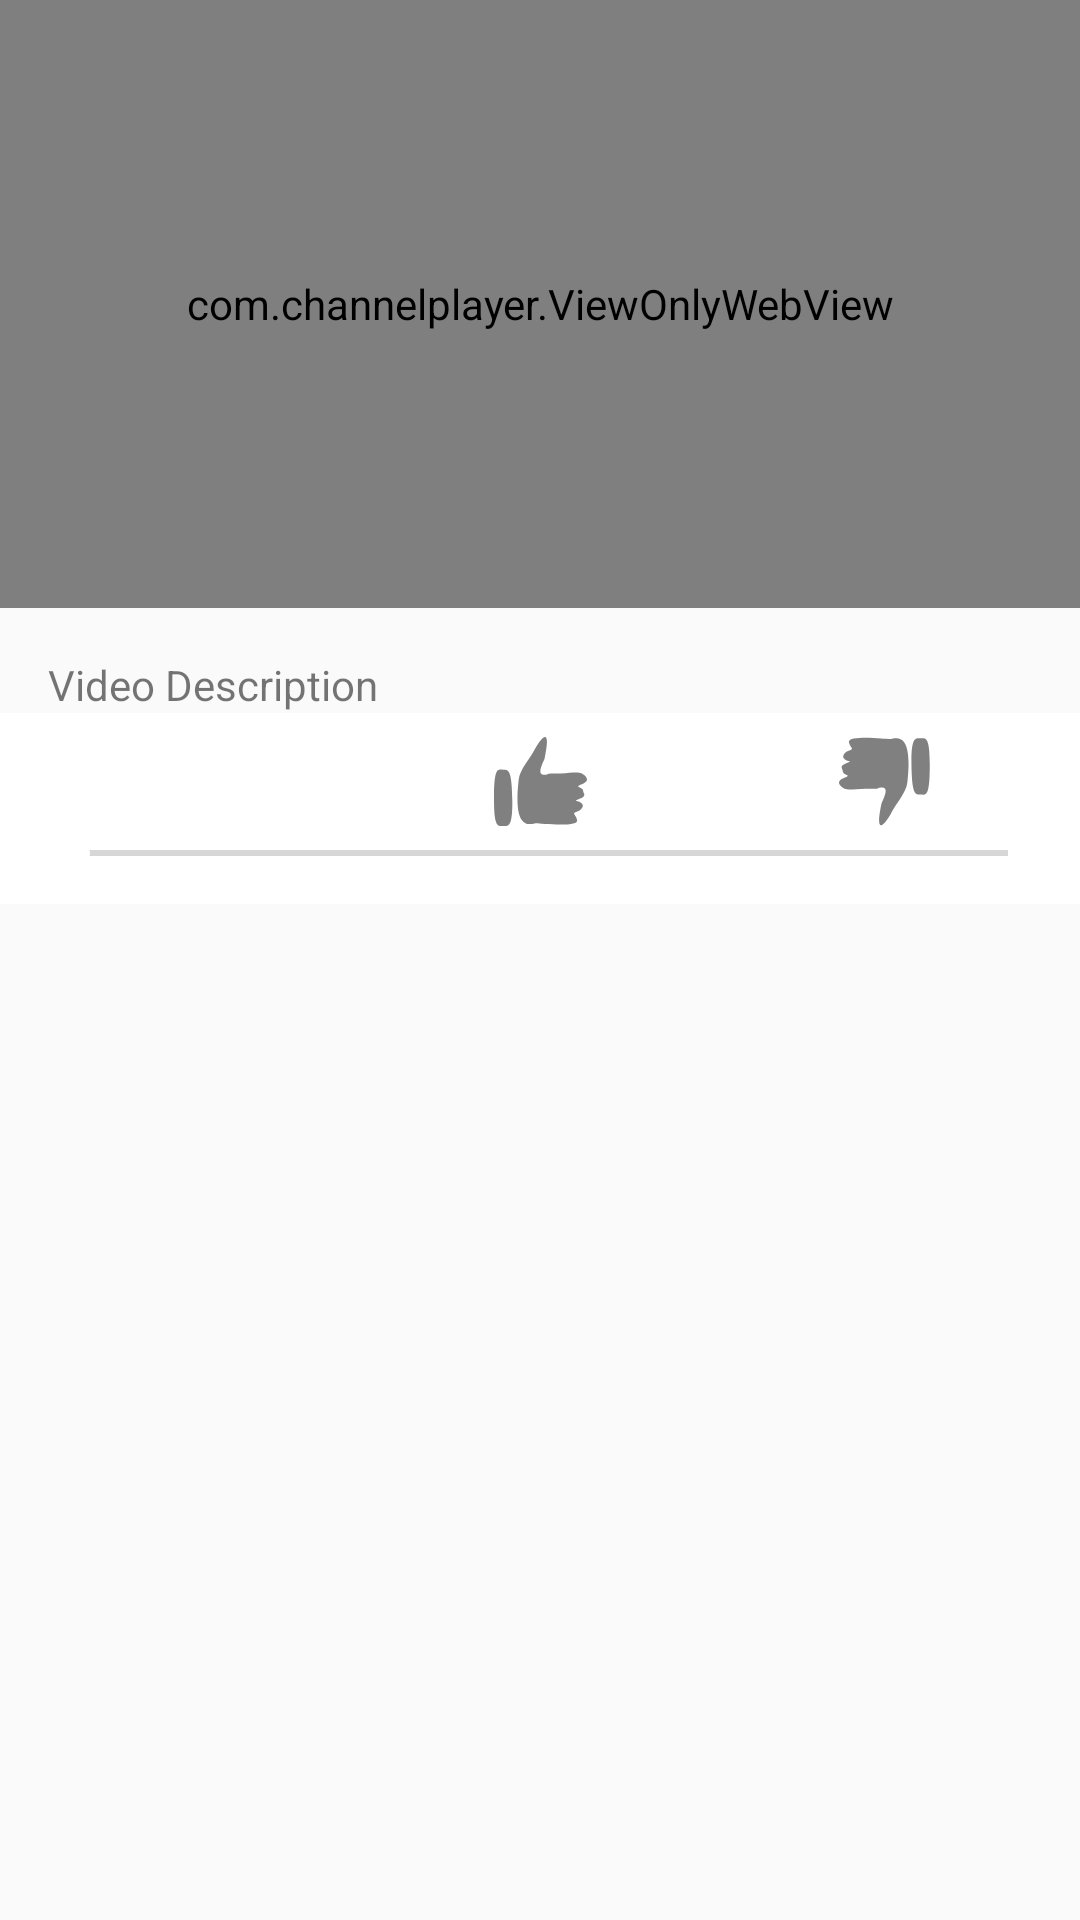

Where to tap for icons on this 1080w x 1920h app screen, as (x,y):
Dislike: (884,781)
Like: (540,781)
